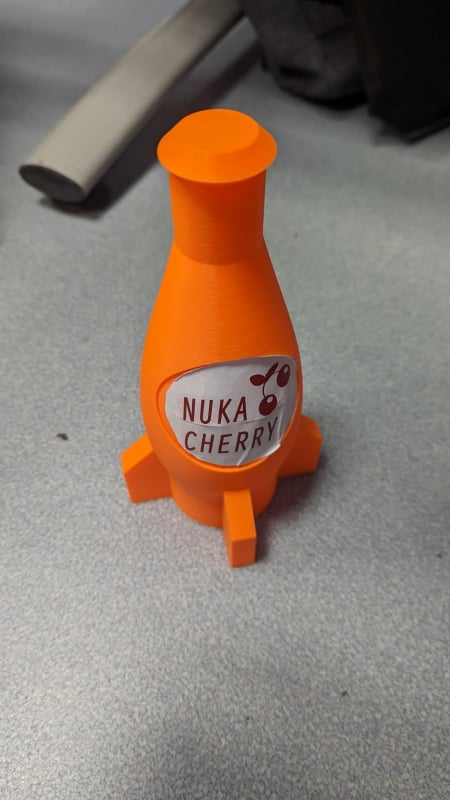bottle: (114, 101, 326, 576)
